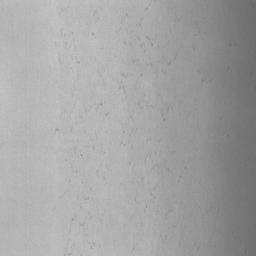Silk spot: (136, 53, 177, 83), (124, 18, 160, 52), (145, 139, 176, 176), (69, 206, 92, 232), (159, 208, 176, 240), (119, 73, 136, 98), (74, 140, 95, 159), (120, 128, 137, 148), (96, 101, 110, 118), (161, 104, 173, 121)
